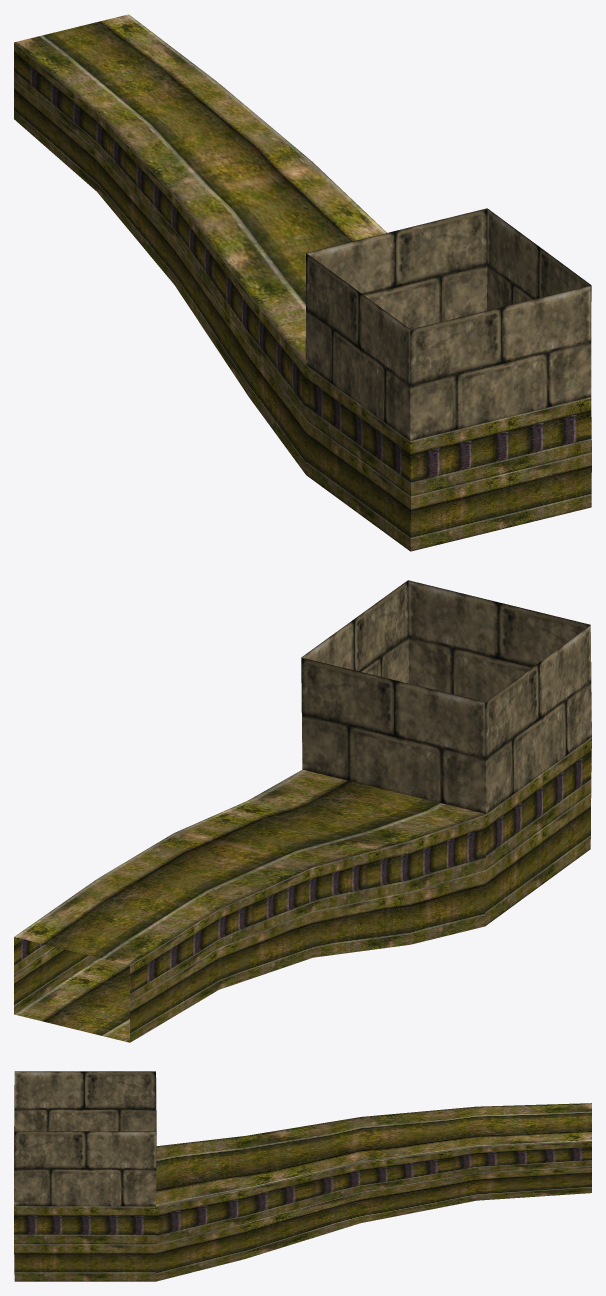
The model's file is OVERHILL_A_01_OBJECT280.fbx.
3 renders of one model, top to bottom at view 1: azimuth 30°, elevation 25°; view 2: azimuth 150°, elevation 25°; view 3: azimuth 270°, elevation 25°, orthographic. The views are drawn at different scales.
Visible parts, largest first — view 1: OVERHILL_A_01_OBJECT280; view 2: OVERHILL_A_01_OBJECT280; view 3: OVERHILL_A_01_OBJECT280.
Boxes of the visible parts, x1,y1,x2,y2 form: OVERHILL_A_01_OBJECT280: (14, 14, 591, 551); OVERHILL_A_01_OBJECT280: (14, 580, 591, 1042); OVERHILL_A_01_OBJECT280: (14, 1071, 591, 1281).
Size of the model in its own units: 18201 by 21173 by 73716.
3 materials, 3 textured.
